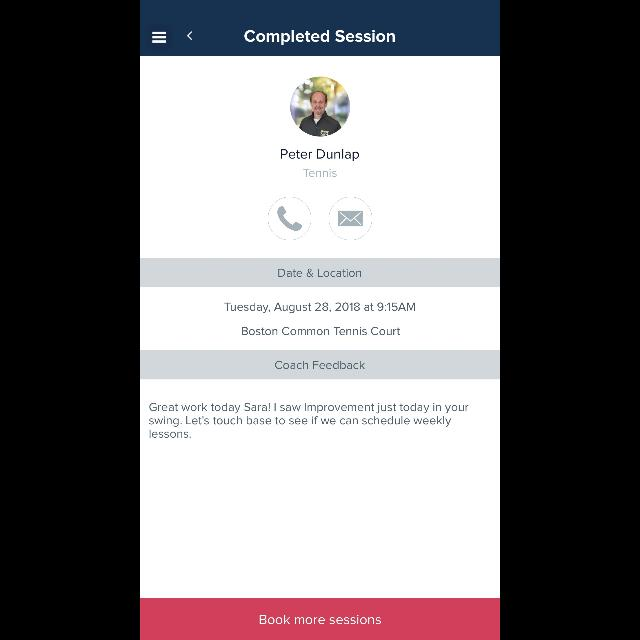icon: (328, 197, 372, 241), (153, 32, 167, 44), (187, 32, 193, 40)
image: (290, 77, 350, 137), (268, 197, 312, 241)
text: (150, 402, 468, 438), (224, 302, 416, 336), (244, 30, 396, 46), (281, 150, 359, 162), (275, 360, 365, 370), (278, 268, 362, 278), (304, 169, 336, 177)
textbutton: (140, 598, 500, 640)
